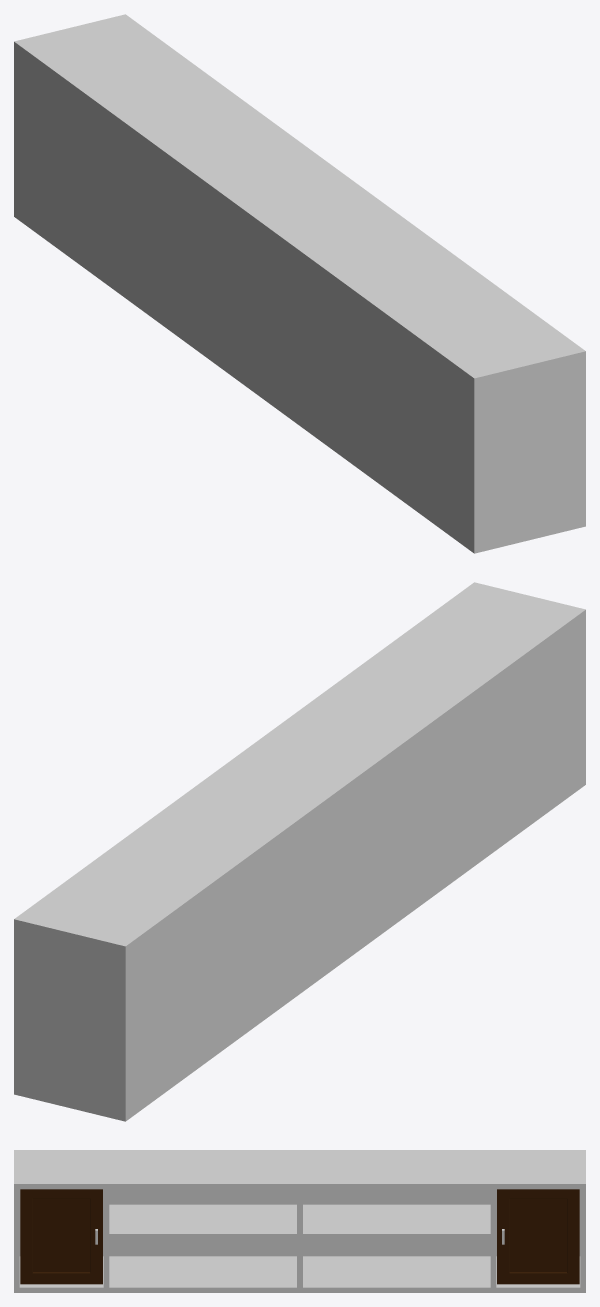
File: TvTable.fbx
The picture shows the model from 3 angles, top to bottom: view 1: azimuth 30°, elevation 25°; view 2: azimuth 150°, elevation 25°; view 3: azimuth 270°, elevation 25°; orthographic projection. The views are drawn at different scales.
Visible parts, largest first — view 1: TvTable; view 2: TvTable; view 3: TvTable.
Part boxes in pixels (<box>): TvTable: <box>14,14,585,553</box>; TvTable: <box>14,582,585,1121</box>; TvTable: <box>14,1150,585,1292</box>.
Bounding box in the file's own units: 35 × 52.5 × 250.
